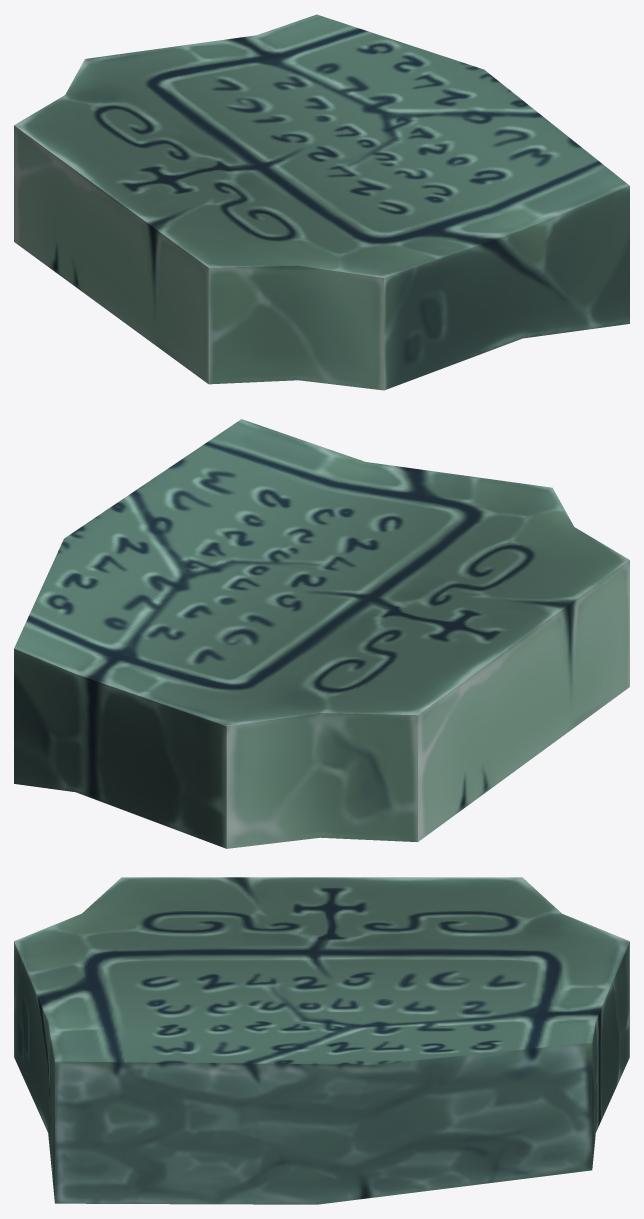
File: tombstone_small_broken_02.fbx
3 renders of one model, top to bottom at view 1: azimuth 30°, elevation 25°; view 2: azimuth 150°, elevation 25°; view 3: azimuth 270°, elevation 25°, orthographic. The views are drawn at different scales.
Parts seen in each view (by area): view 1: tombstone_small_broken_02; view 2: tombstone_small_broken_02; view 3: tombstone_small_broken_02.
Boxes of the visible parts, <box> form: tombstone_small_broken_02: <box>14,14,629,390</box>; tombstone_small_broken_02: <box>14,419,629,848</box>; tombstone_small_broken_02: <box>14,877,629,1204</box>.
Bounding box in the file's own units: 6.49 × 2.18 × 8.46.
